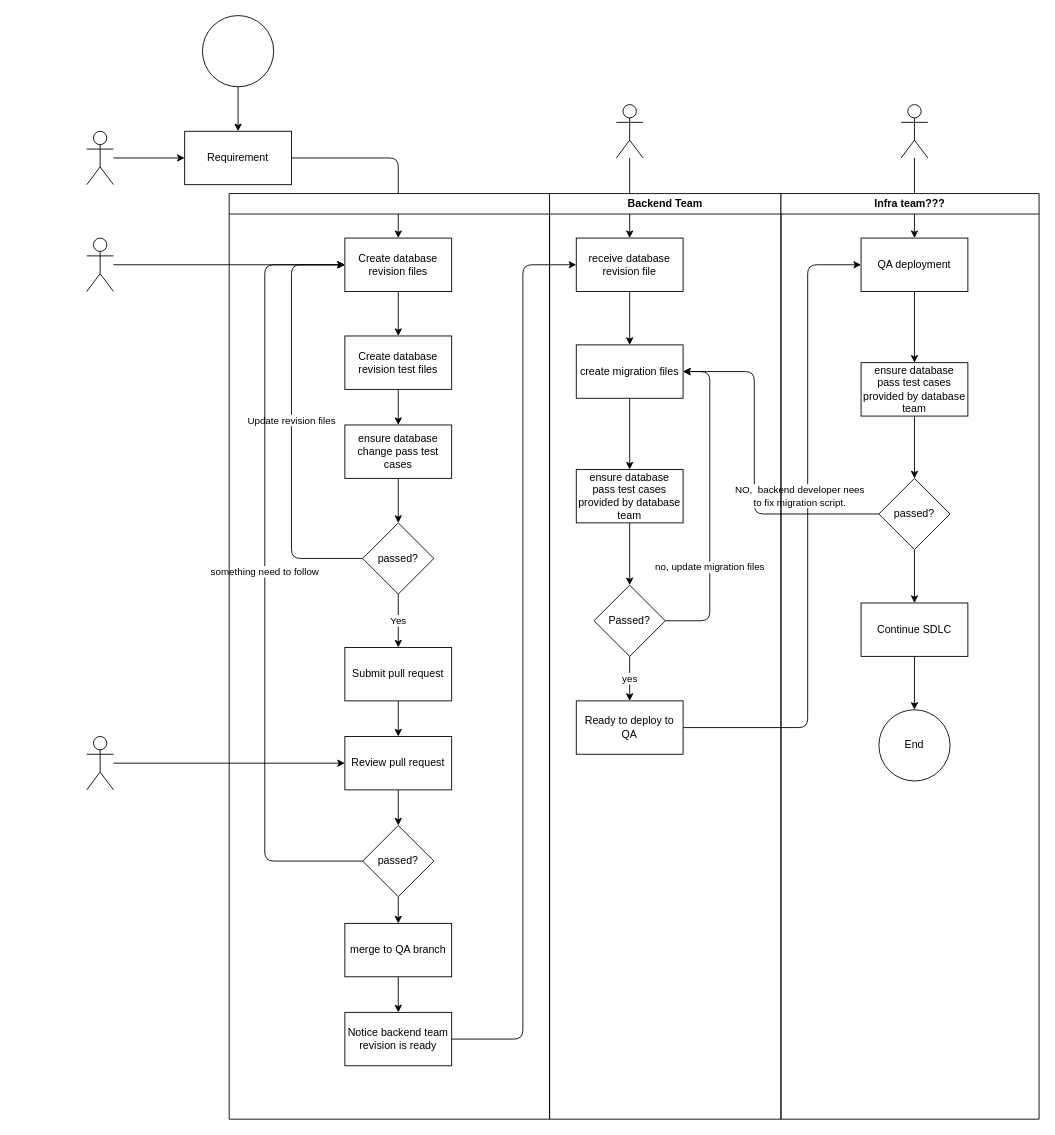
The diagram is 1055 pixels wide and 1135 high, and some of its shapes have lost their labels. The box of each missing label's shape, as (x1, y1, x2, y2) in pixels:
Backend Developer: (615, 104, 643, 158)
Database developer: (86, 237, 113, 291)
Database developer who responds to review and merge pull request from Gitlab: (86, 736, 113, 790)
Database Team: (228, 193, 550, 1119)
Infra team member?: (900, 104, 928, 158)
Start: (202, 15, 274, 87)
User: (86, 130, 113, 185)
